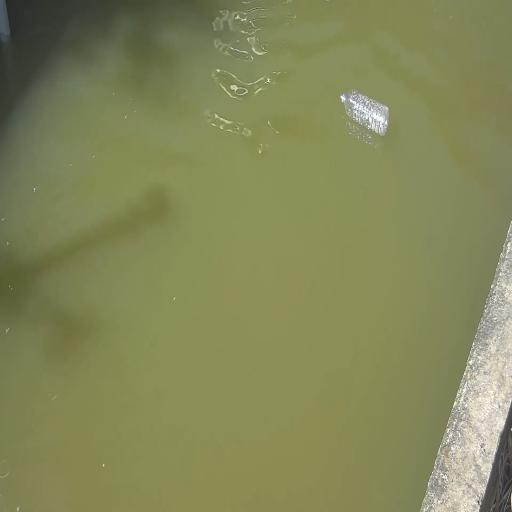plastic: (339, 88, 390, 138)
